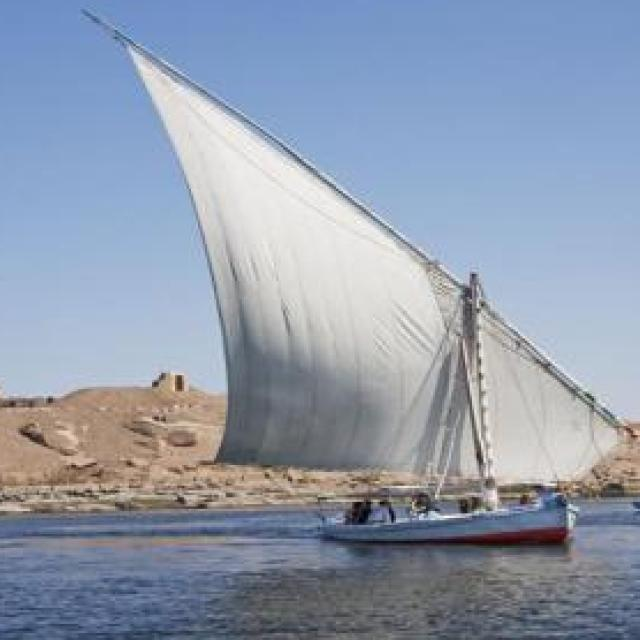passenger ship: (102, 4, 617, 546)
